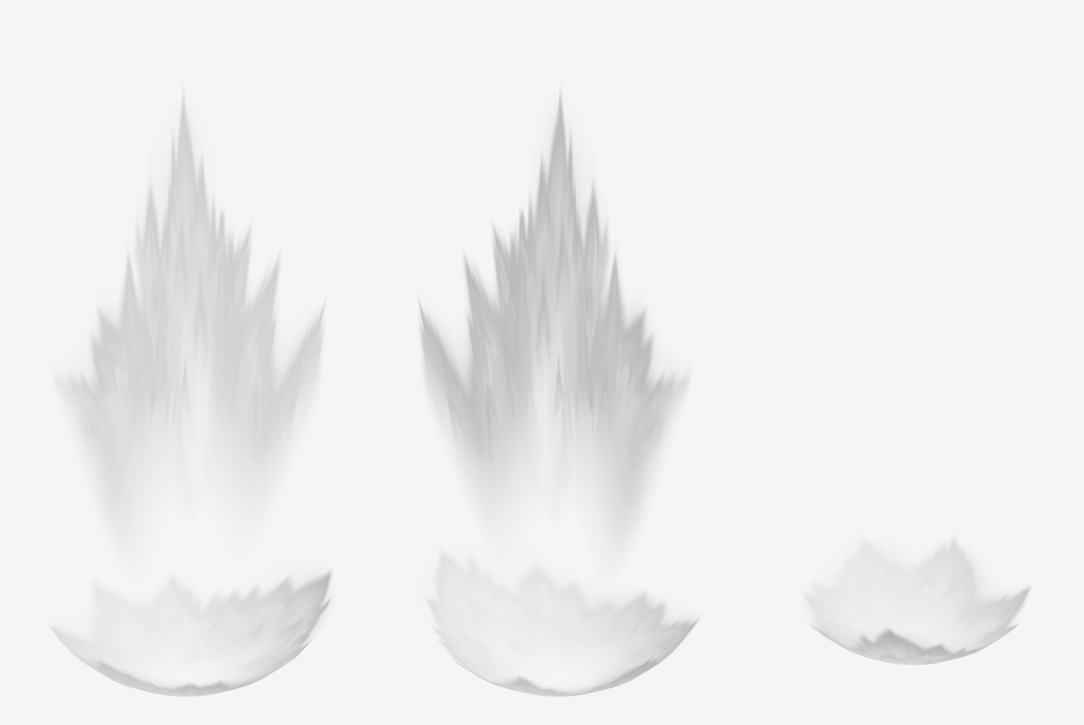
3 renders of one model, left to right at view 1: azimuth 30°, elevation 25°; view 2: azimuth 150°, elevation 25°; view 3: azimuth 270°, elevation 25°, orthographic. The views are drawn at different scales.
Parts seen in each view (by area): view 1: Aura, Capsule; view 2: Aura, Capsule; view 3: Capsule.
Boxes of the visible parts, x1,y1,x2,y2 form: Aura: (53,88,326,554); Capsule: (47,569,332,696); Aura: (417,88,690,554); Capsule: (424,548,699,696); Capsule: (802,535,1031,665).
Size of the model in its own units: 2 by 4.06 by 2.
3 materials, 3 textured.
